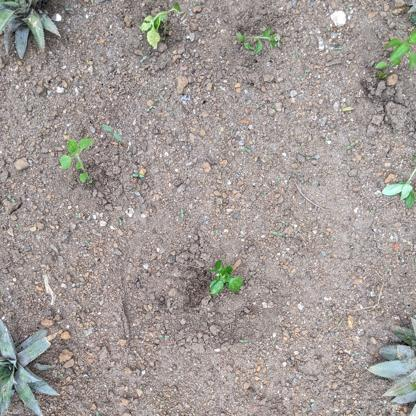pineapple: (1, 317, 60, 416), (368, 315, 416, 416), (2, 1, 61, 63)
weed: (54, 133, 101, 189), (139, 3, 184, 52), (204, 260, 248, 299), (374, 35, 416, 75), (382, 167, 416, 214), (230, 26, 286, 53)
